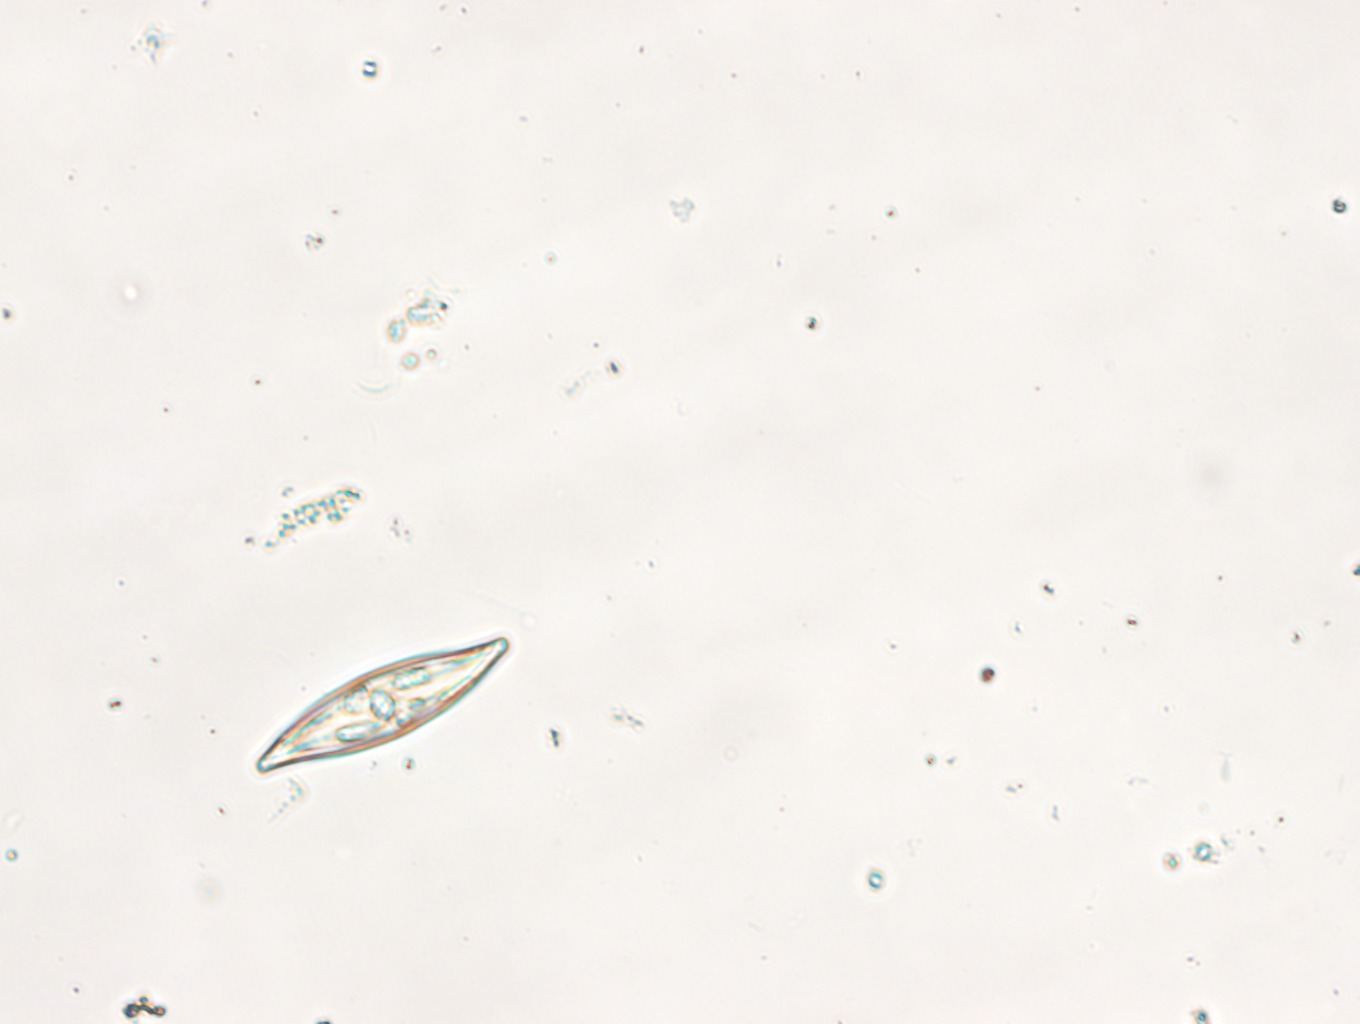pleurosigma pelagicum: (253, 630, 510, 776)
